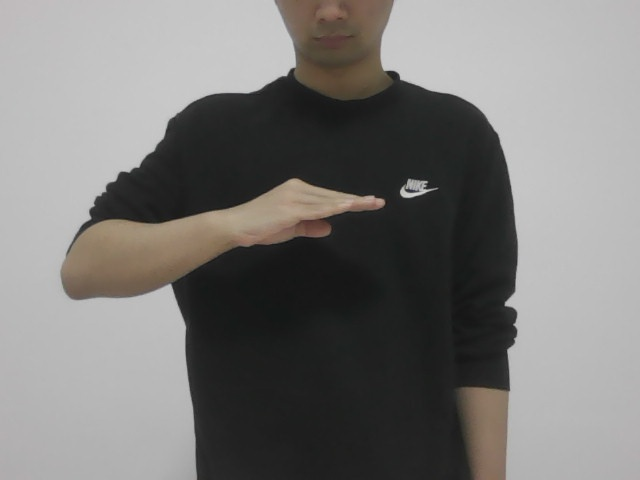late/night: (226, 174, 389, 248)
